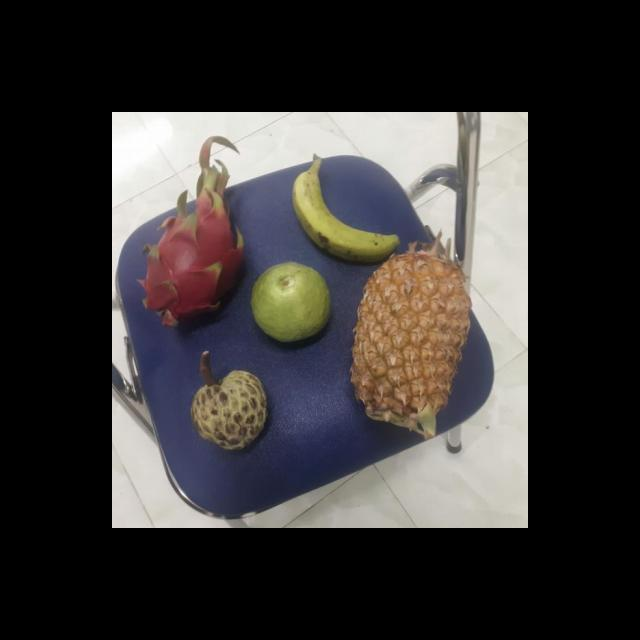Sakya fruit: (190, 368, 274, 450)
banana: (294, 158, 410, 262)
guava: (252, 263, 336, 343)
pineapple: (350, 250, 480, 430)
pitaya: (143, 206, 249, 325)
